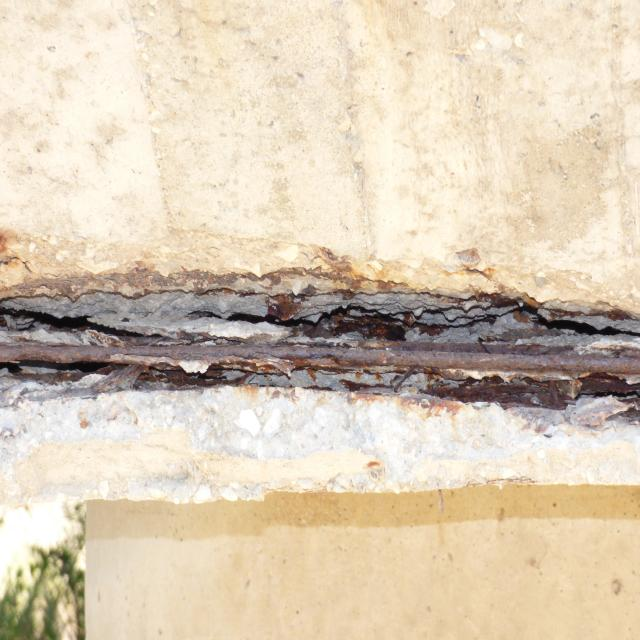corrosion: (0, 218, 640, 445)
